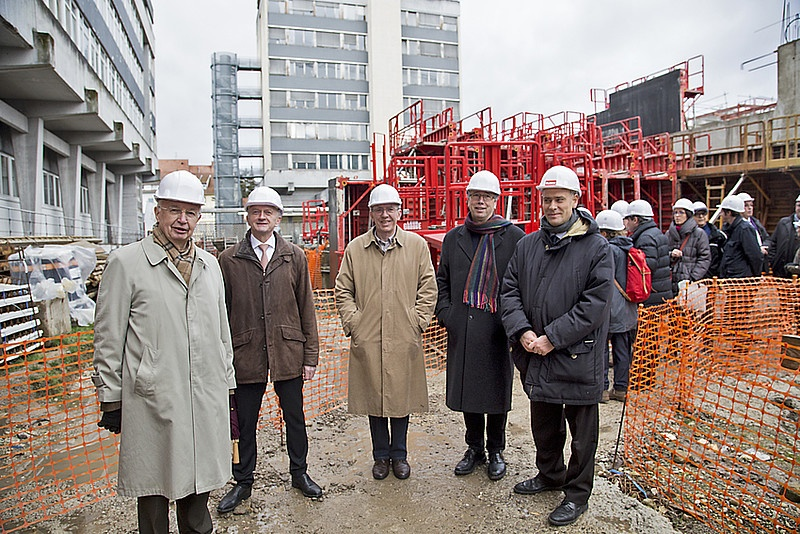white: (150, 168, 207, 248), (534, 164, 582, 227), (239, 184, 285, 240), (460, 168, 504, 225), (366, 180, 404, 235), (623, 198, 656, 235), (594, 207, 625, 245), (718, 194, 745, 226), (670, 197, 694, 228), (690, 198, 711, 228)
